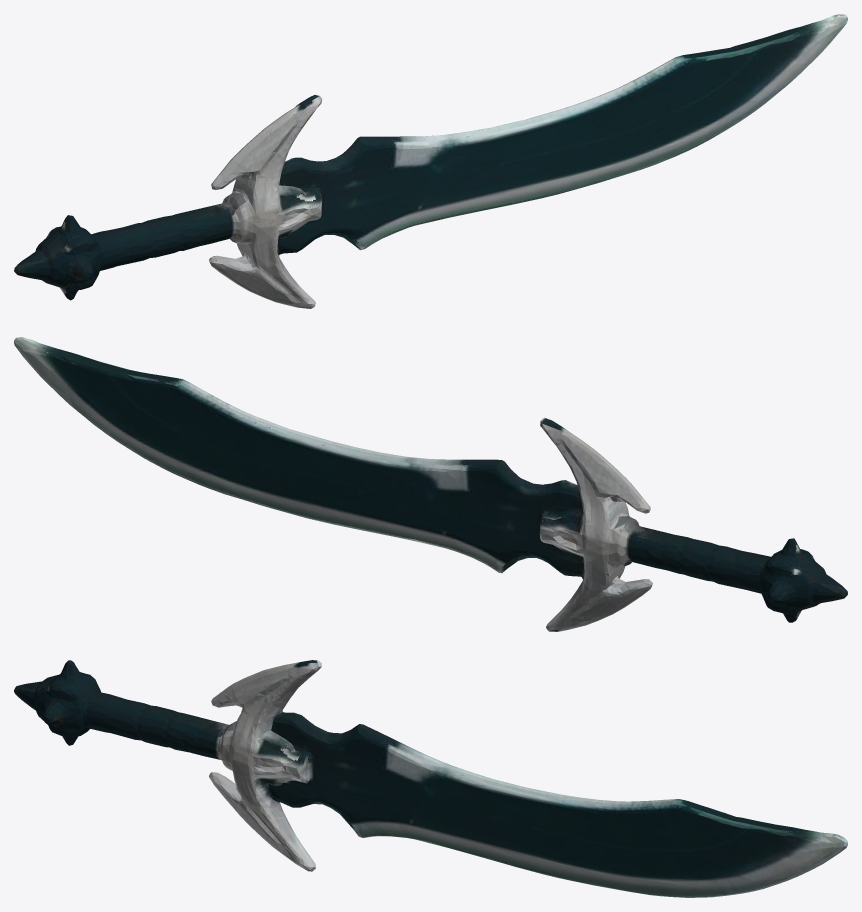
Rendered from ha-w-power-weapon.glb.
3 views of the same model, one above another, from view 1: azimuth 30°, elevation 25°; view 2: azimuth 150°, elevation 25°; view 3: azimuth 330°, elevation 25° (orthographic).
Parts seen in each view (by area): view 1: tmpm_kh5ki9.ply; view 2: tmpm_kh5ki9.ply; view 3: tmpm_kh5ki9.ply.
Boxes of the visible parts, x1,y1,x2,y2 form: tmpm_kh5ki9.ply: (14, 14, 847, 308); tmpm_kh5ki9.ply: (14, 337, 847, 631); tmpm_kh5ki9.ply: (14, 660, 847, 897).
Bounding box in the file's own units: 0.75 × 0.1818 × 0.0683.
Materials: 1 (1 with a texture image).
